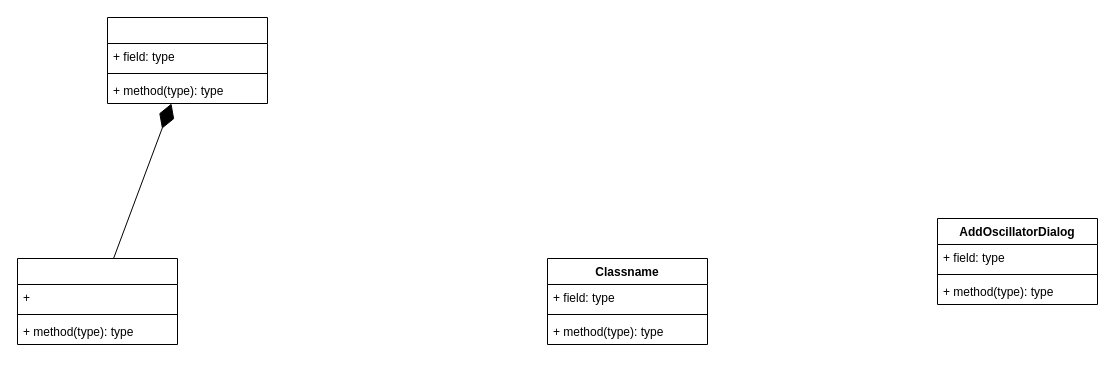
The diagram is 1115 pixels wide and 365 high, and some of its shapes have lost their labels. The box of each missing label's shape, as (x1, y1, x2, y2) in pixels:
HarmonicModel: (106, 16, 268, 104)
HarmonicOscillator: (16, 258, 178, 344)
